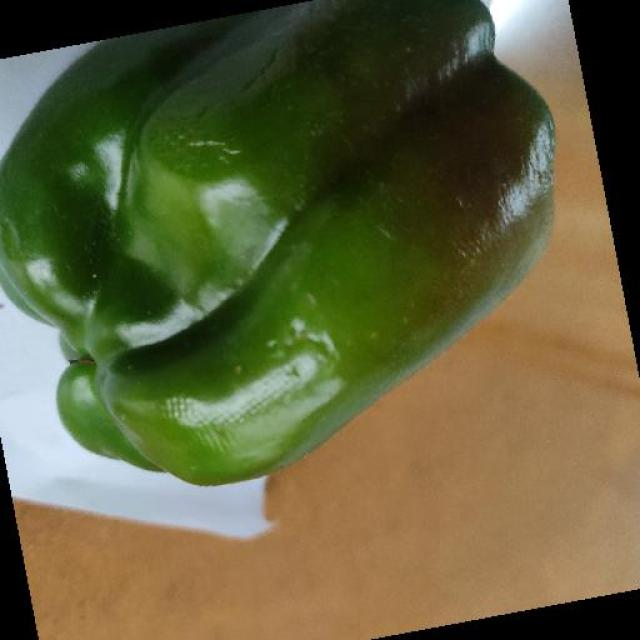Stale_Capsicum: (345, 15, 545, 323)
